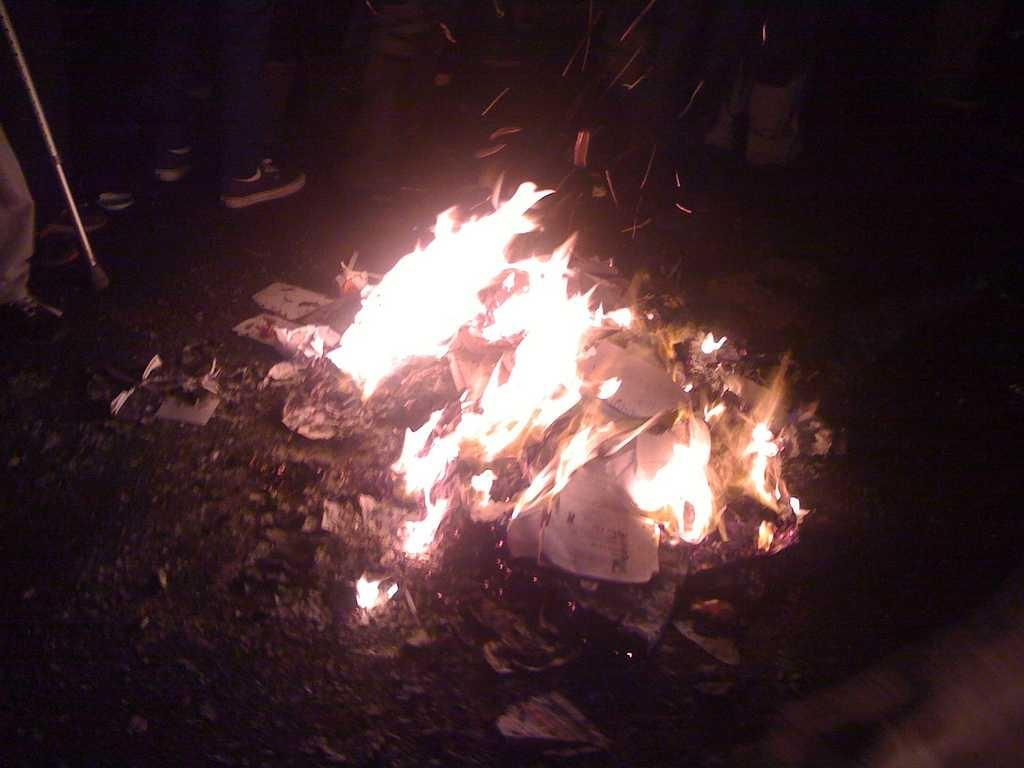fire: (355, 174, 607, 433), (637, 414, 804, 529)
